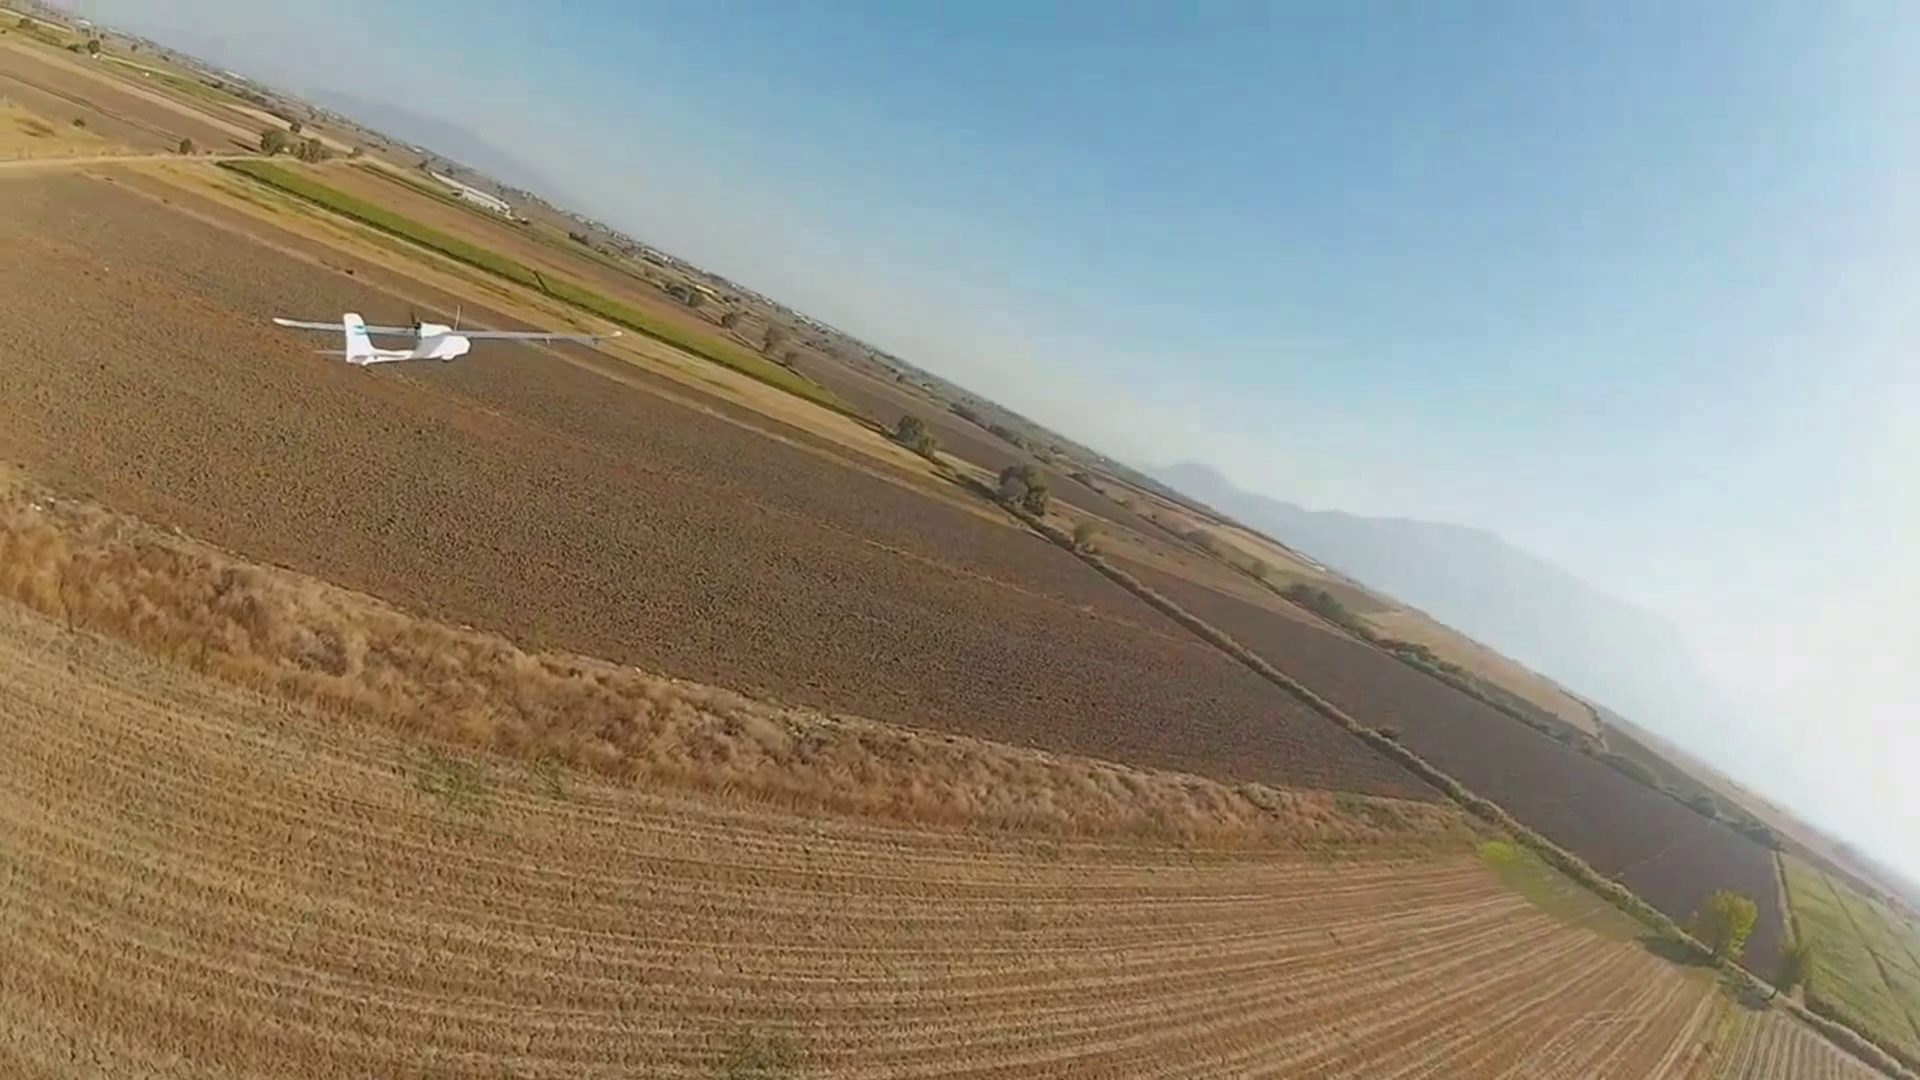airplane: (268, 311, 471, 369), (343, 314, 471, 365)
